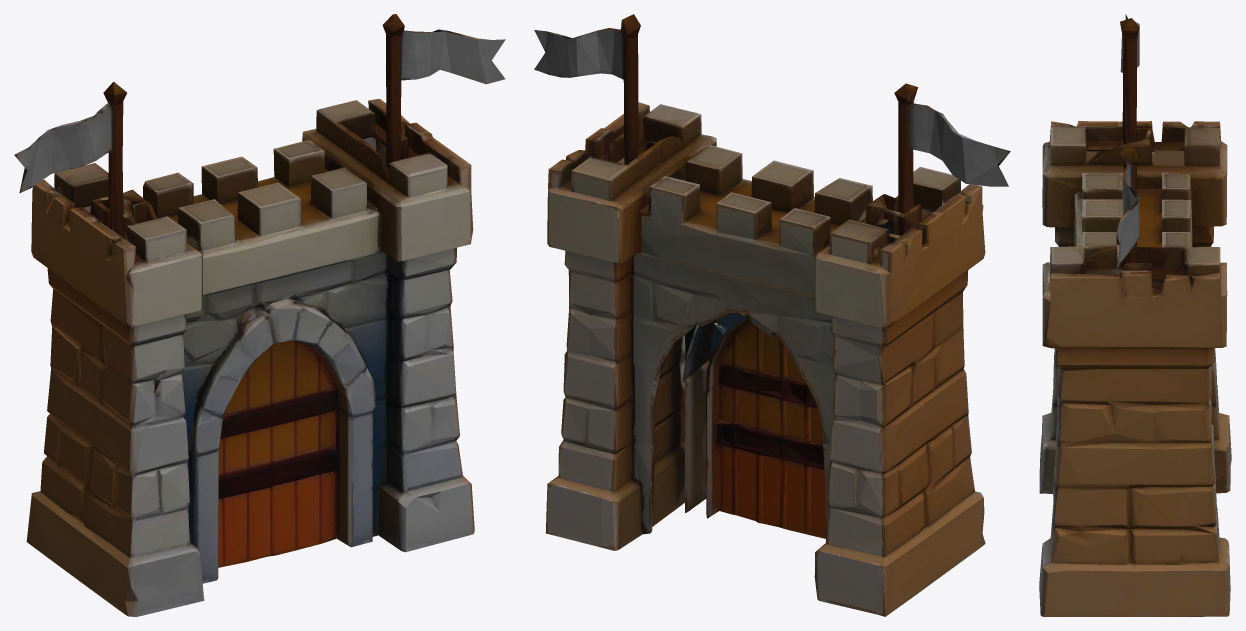
Rendered from stone_fortification_gate.glb.
3 views of the same model, side by side, from view 1: azimuth 30°, elevation 25°; view 2: azimuth 150°, elevation 25°; view 3: azimuth 270°, elevation 25° (orthographic). The views are drawn at different scales.
Bounding box in the file's own units: 1.97 × 1.93 × 0.7286.
Materials: 1 (1 with a texture image).
